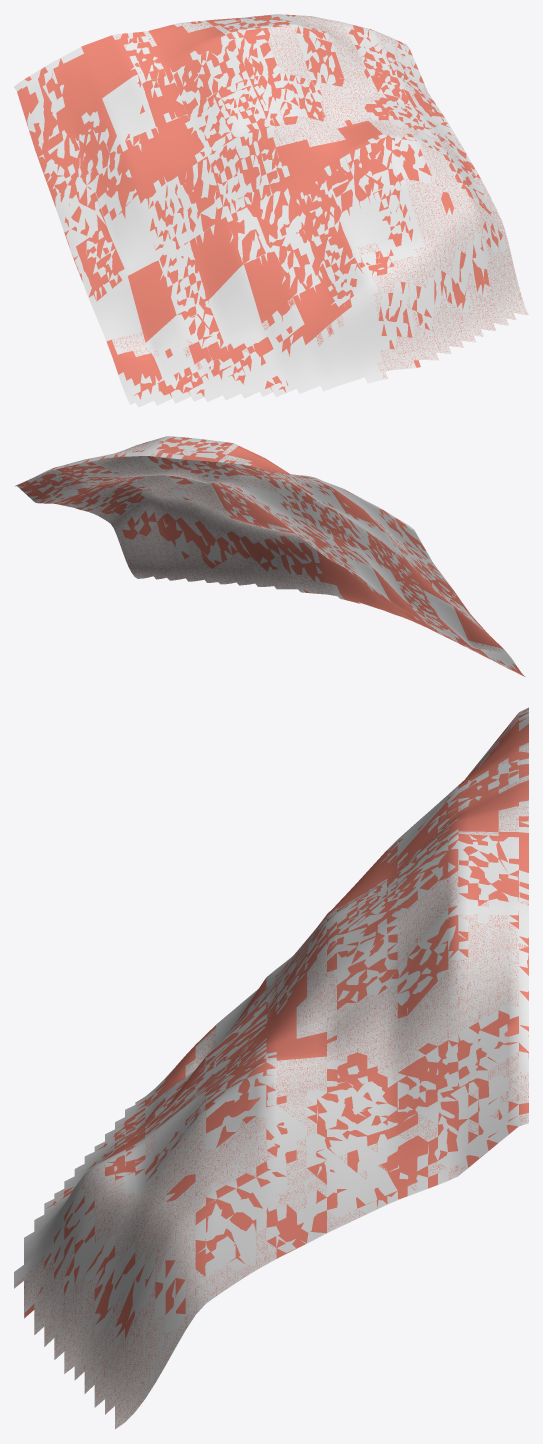
The model's file is Terrain01.fbx.
3 renders of one model, top to bottom at view 1: azimuth 30°, elevation 25°; view 2: azimuth 150°, elevation 25°; view 3: azimuth 270°, elevation 25°, orthographic. The views are drawn at different scales.
Visible parts, largest first — view 1: Terrain01_LOD0, UTM_Terrain01; view 2: Terrain01_LOD0, UTM_Terrain01; view 3: Terrain01_LOD0, UTM_Terrain01.
Boxes of the visible parts, x1=… form: Terrain01_LOD0: x1=14, y1=14, x2=528, y2=407; UTM_Terrain01: x1=17, y1=14, x2=527, y2=399; Terrain01_LOD0: x1=15, y1=436, x2=525, y2=676; UTM_Terrain01: x1=16, y1=437, x2=524, y2=676; Terrain01_LOD0: x1=14, y1=707, x2=528, y2=1429; UTM_Terrain01: x1=15, y1=708, x2=528, y2=1428.
Size of what is drawn, in the model's own units: 15201 by 9706 by 10200.
